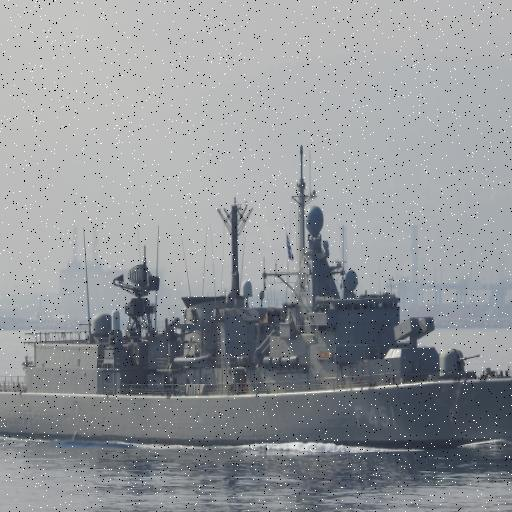Fragata: (1, 130, 512, 468)
